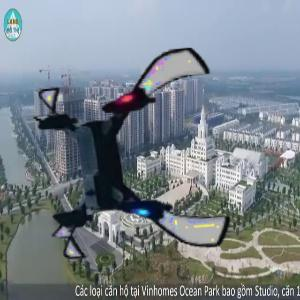drone: (32, 52, 239, 259)
